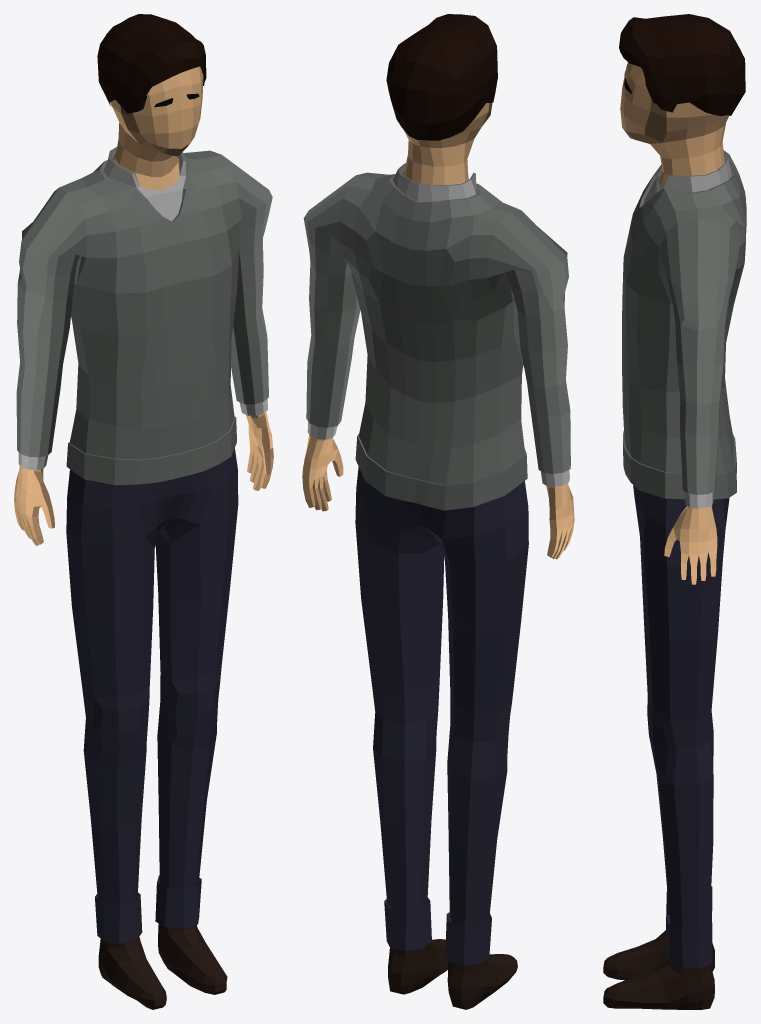
File: player.obj
3 renders of one model, left to right at view 1: azimuth 30°, elevation 25°; view 2: azimuth 150°, elevation 25°; view 3: azimuth 270°, elevation 25°, orthographic.
Parts seen in each view (by area): view 1: player:ManCasual3; view 2: player:ManCasual3; view 3: player:ManCasual3.
Boxes of the visible parts, left/top/right/bottom form: player:ManCasual3: left=14, top=14, right=273, bottom=1009; player:ManCasual3: left=302, top=14, right=574, bottom=1009; player:ManCasual3: left=603, top=14, right=746, bottom=1009.
Size of the model in its own units: 0.9535 by 3.42 by 0.4575.
1 material, 1 textured.
